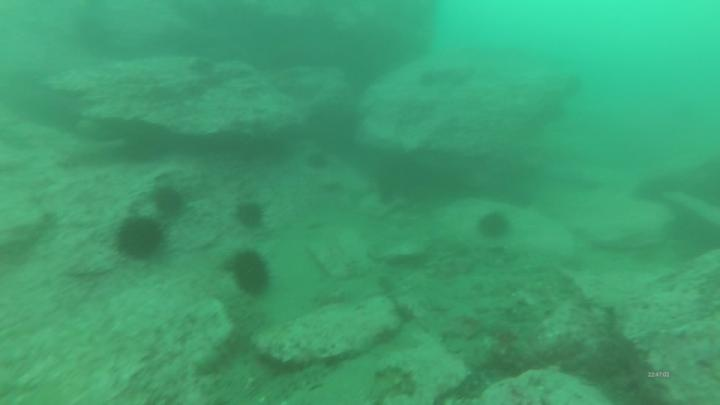echinus: (113, 213, 169, 266), (226, 248, 277, 300), (475, 207, 513, 242), (152, 184, 187, 219), (235, 200, 269, 232), (302, 150, 330, 173)
